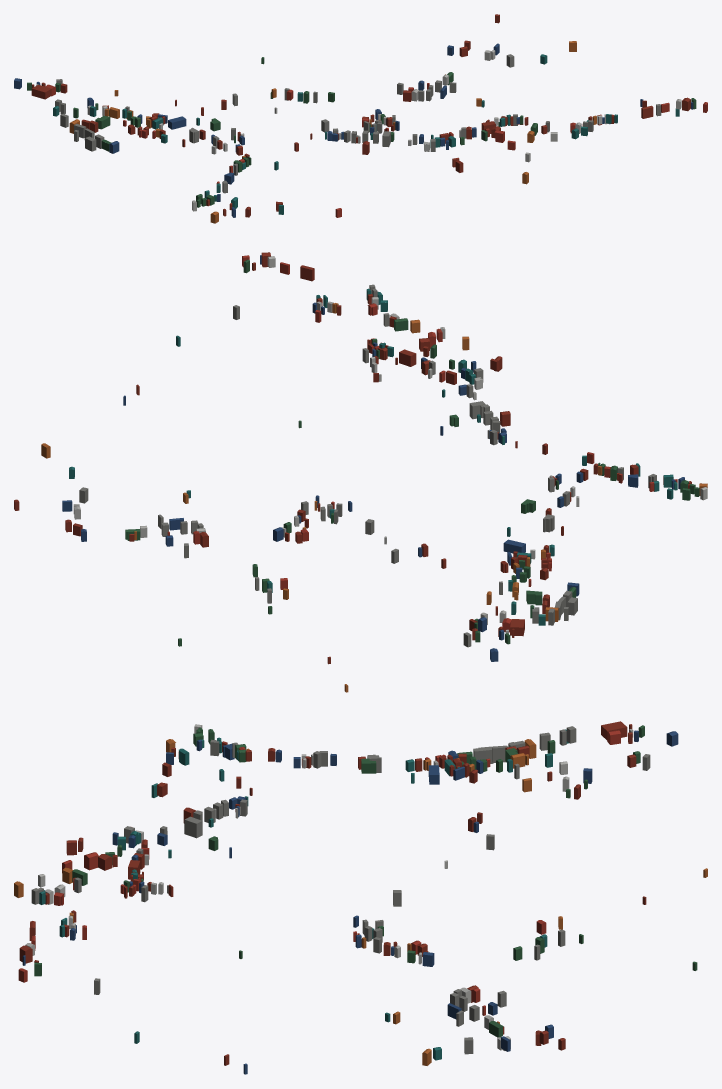
File: near-15-27351-14861.372f9422.glb
3 renders of one model, top to bottom at view 1: azimuth 30°, elevation 25°; view 2: azimuth 150°, elevation 25°; view 3: azimuth 270°, elevation 25°, orthographic. The views are drawn at different scales.
Bounding box in the file's own units: 1168 × 249 × 1099.
